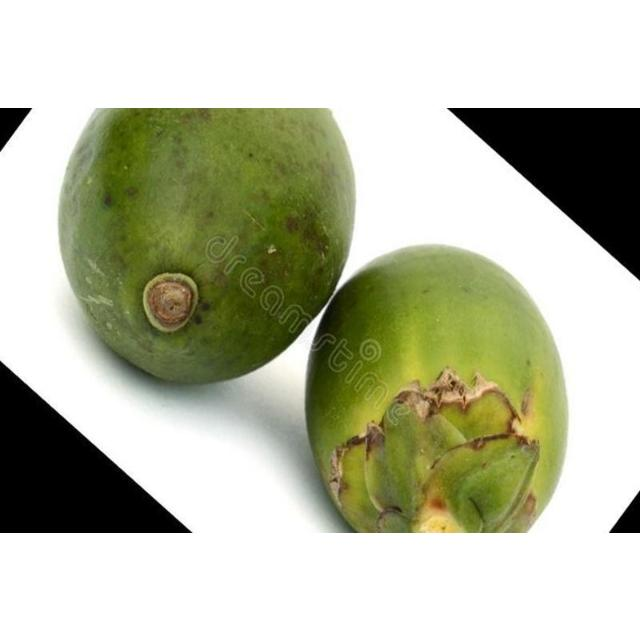good: (56, 107, 356, 386), (303, 244, 571, 532)
